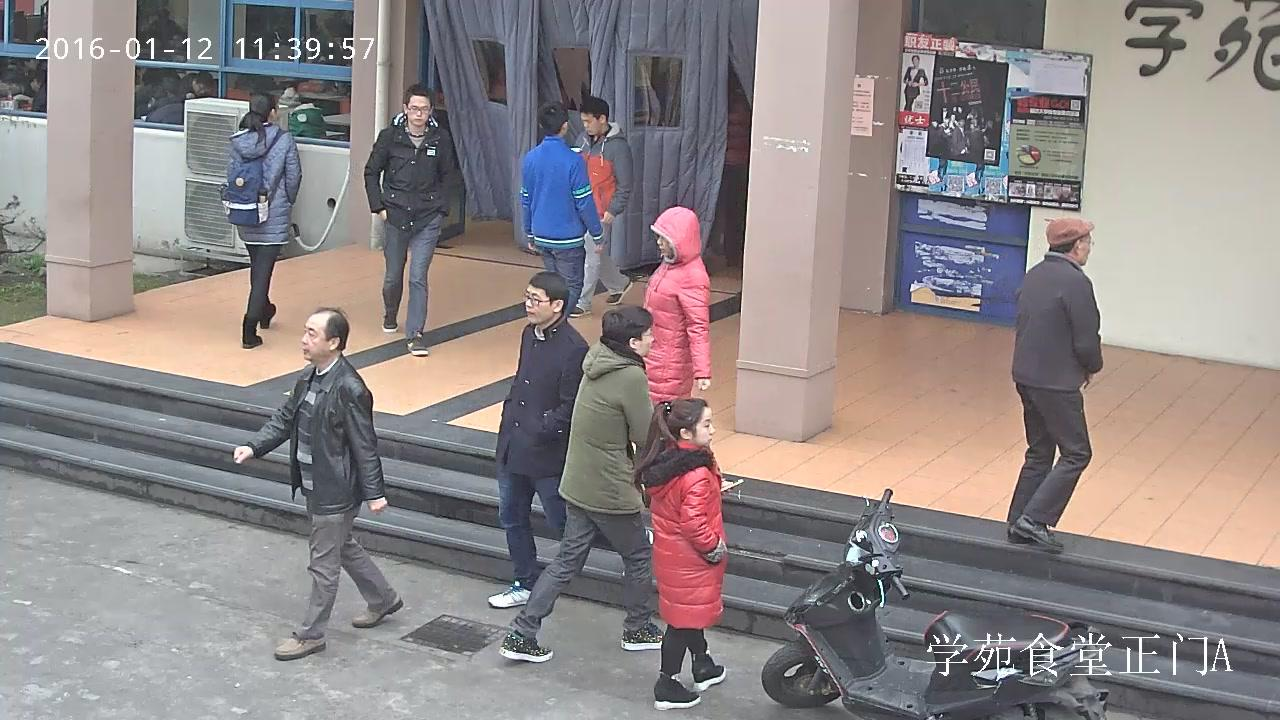person: (233, 305, 405, 661), (497, 302, 666, 662), (633, 397, 745, 710), (487, 270, 590, 608), (1004, 217, 1102, 550), (362, 82, 455, 357), (220, 90, 302, 348), (516, 99, 607, 322), (637, 205, 712, 414), (571, 94, 634, 317), (701, 62, 752, 274), (276, 86, 327, 143), (136, 84, 188, 127), (900, 55, 928, 112), (174, 70, 218, 101)
